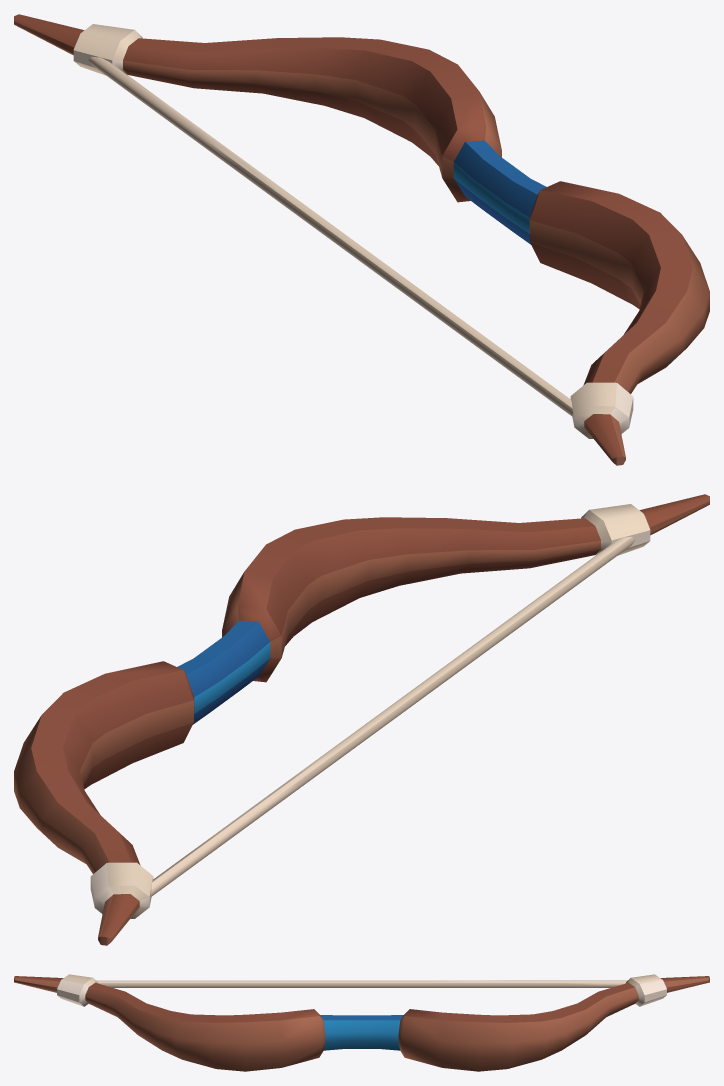
Rendered from bow.glb.
The picture shows the model from 3 angles, top to bottom: view 1: azimuth 30°, elevation 25°; view 2: azimuth 150°, elevation 25°; view 3: azimuth 270°, elevation 25°; orthographic projection. The views are drawn at different scales.
Visible parts, largest first — view 1: bow_withString; view 2: bow_withString; view 3: bow_withString.
Boxes of the visible parts, x1,y1,x2,y2 form: bow_withString: (14,14,709,465); bow_withString: (14,494,709,945); bow_withString: (14,974,709,1071).
Size of the model in its own units: 0.4944 by 0.1555 by 1.98.
1 material, 1 textured.
